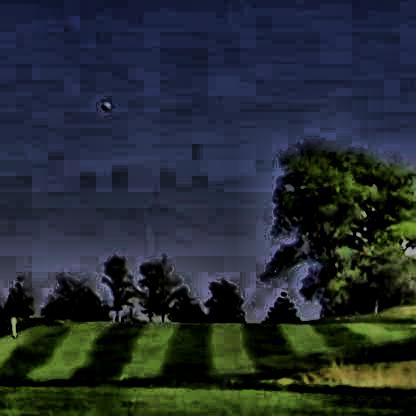golfball: (98, 99, 108, 110)
